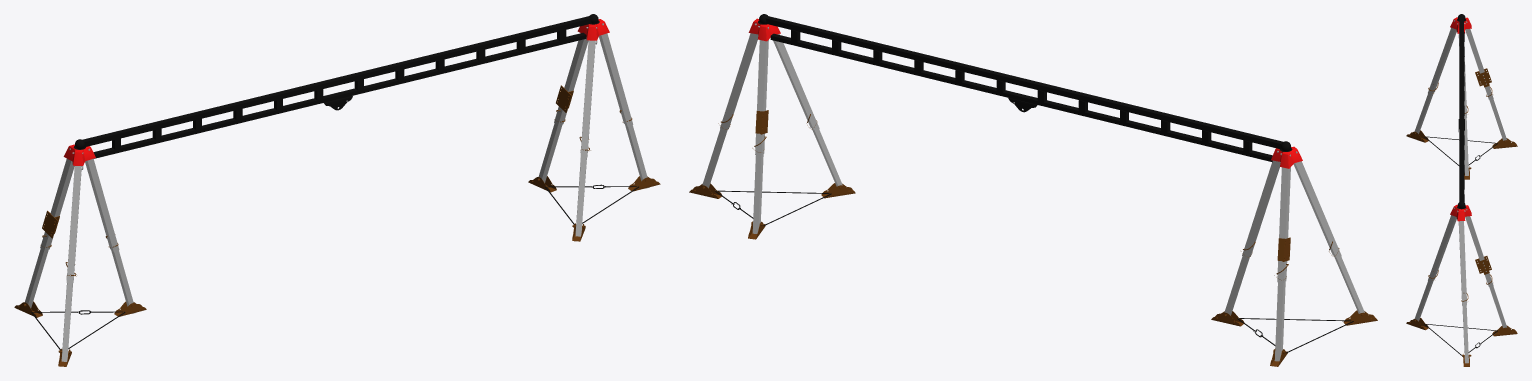
The model's file is SM_Hexa_Pod.FBX.
3 views of the same model, side by side, from view 1: azimuth 30°, elevation 25°; view 2: azimuth 150°, elevation 25°; view 3: azimuth 270°, elevation 25° (orthographic). The views are drawn at different scales.
Visible parts, largest first — view 1: Rectangle087, SM_Tripod, SM_Tripod 001; view 2: Rectangle087, SM_Tripod, SM_Tripod 001; view 3: SM_Tripod 001, SM_Tripod, Rectangle087.
Part boxes in pixels (x1,y1,x2,y2): Rectangle087: [73, 14, 599, 158]; SM_Tripod: [14, 144, 146, 366]; SM_Tripod 001: [528, 19, 660, 241]; Rectangle087: [758, 14, 1292, 162]; SM_Tripod: [1211, 146, 1377, 366]; SM_Tripod 001: [689, 18, 855, 239]; SM_Tripod 001: [1406, 204, 1517, 366]; SM_Tripod: [1406, 17, 1517, 179]; Rectangle087: [1457, 14, 1466, 209].
Bounding box in the file's own units: 4945 × 1400 × 1003.
